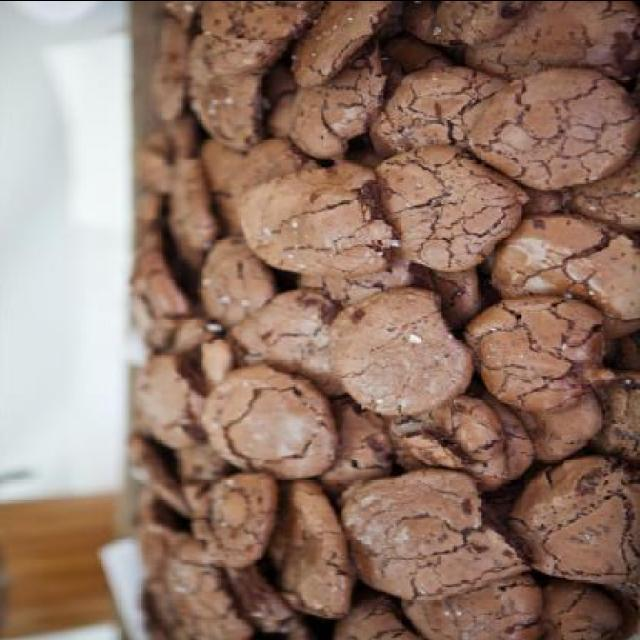Cookie: (121, 0, 639, 640)
